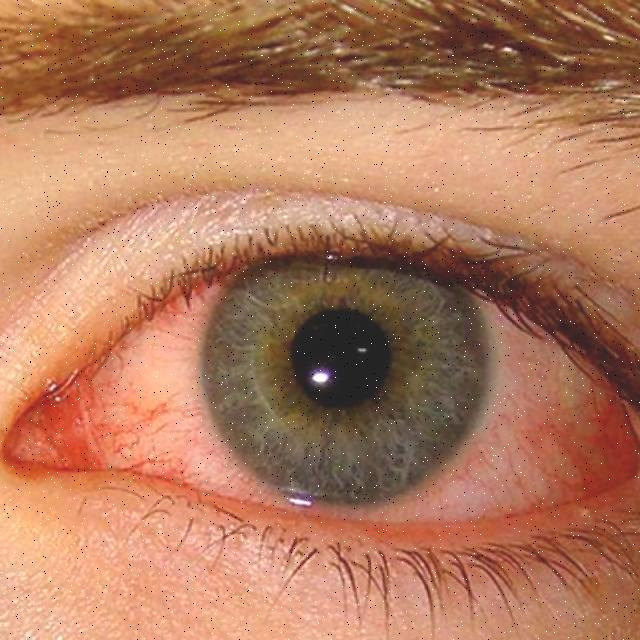Conjunctivitis: (8, 266, 640, 527)
